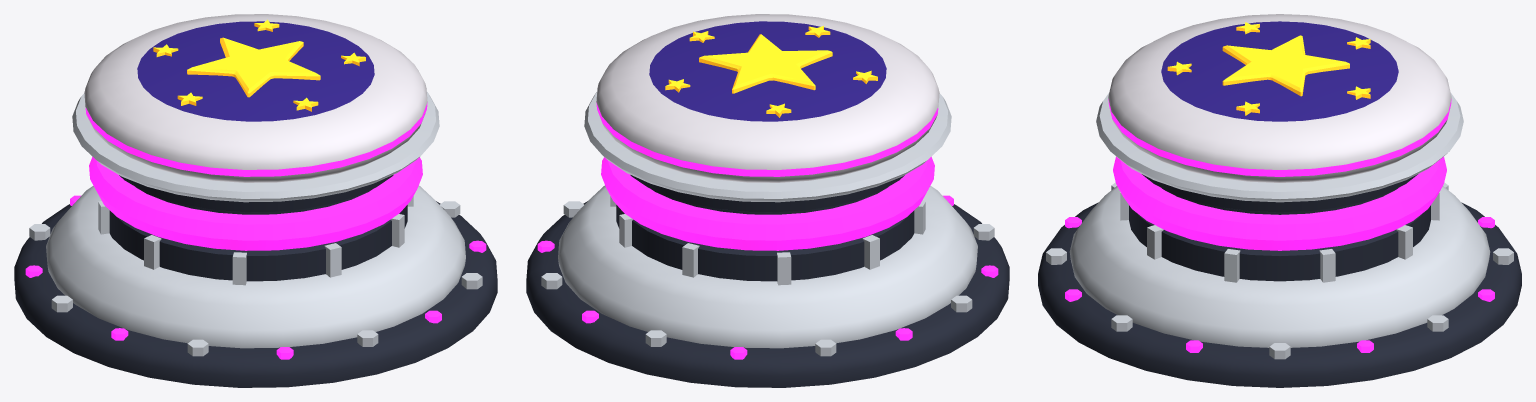
Rendered from bumper.glb.
3 views of the same model, side by side, from view 1: azimuth 30°, elevation 25°; view 2: azimuth 150°, elevation 25°; view 3: azimuth 270°, elevation 25° (orthographic).
Visible parts, largest first — view 1: base, cap; view 2: base, cap; view 3: base, cap.
Boxes of the visible parts, x1,y1,x2,y2 form: base: (14,91,497,387); cap: (84,14,427,182); base: (526,91,1009,387); cap: (596,14,939,182); base: (1038,93,1521,387); cap: (1108,14,1451,182).
Size of the model in its own units: 1.1 by 0.562 by 1.1.
